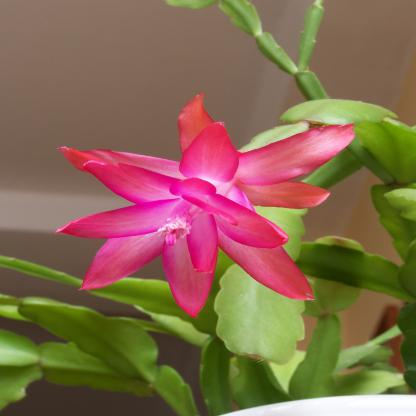Aglonema: (59, 14, 378, 402)
